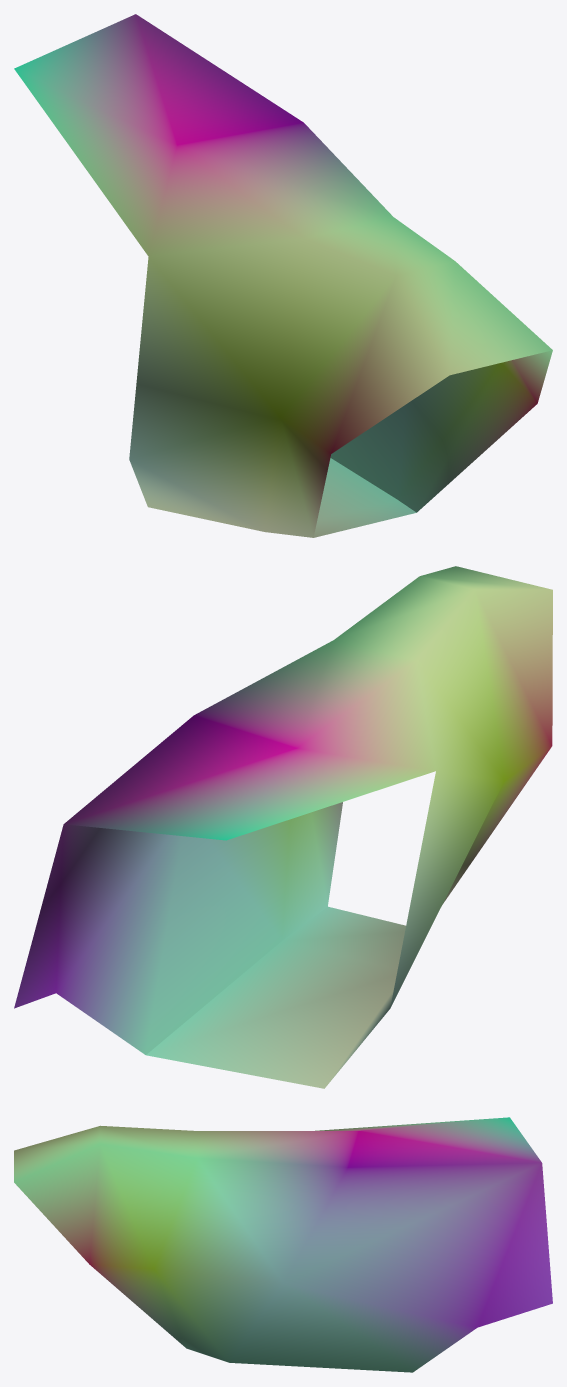
The picture shows the model from 3 angles, top to bottom: view 1: azimuth 30°, elevation 25°; view 2: azimuth 150°, elevation 25°; view 3: azimuth 270°, elevation 25°; orthographic projection. The views are drawn at different scales.
Parts seen in each view (by area): view 1: part; view 2: part; view 3: part.
Boxes of the visible parts, box(x1,y1,x2,y2) form: part: box(14, 14, 552, 537); part: box(14, 566, 552, 1088); part: box(14, 1117, 552, 1372).
Bounding box in the file's own units: 18 × 24 × 50.
